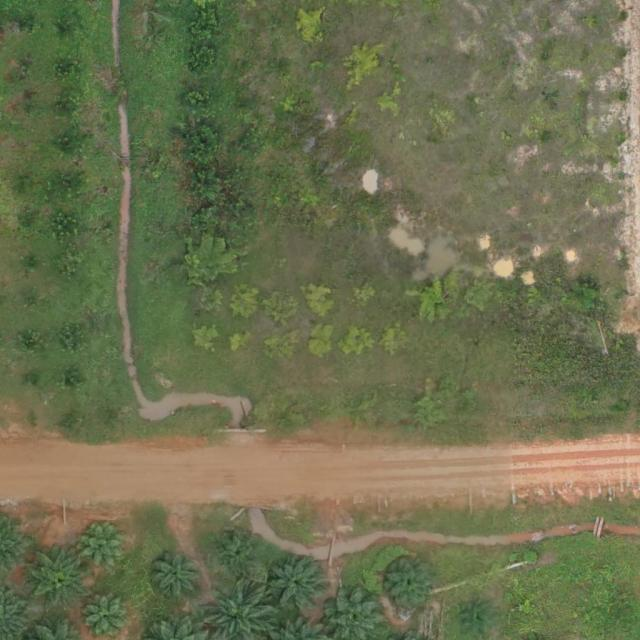Healthy: (27, 547, 90, 610), (150, 550, 205, 605), (271, 559, 326, 614)
Small: (80, 521, 135, 576), (387, 558, 434, 606), (84, 594, 131, 640), (221, 535, 260, 575), (463, 606, 494, 637)
